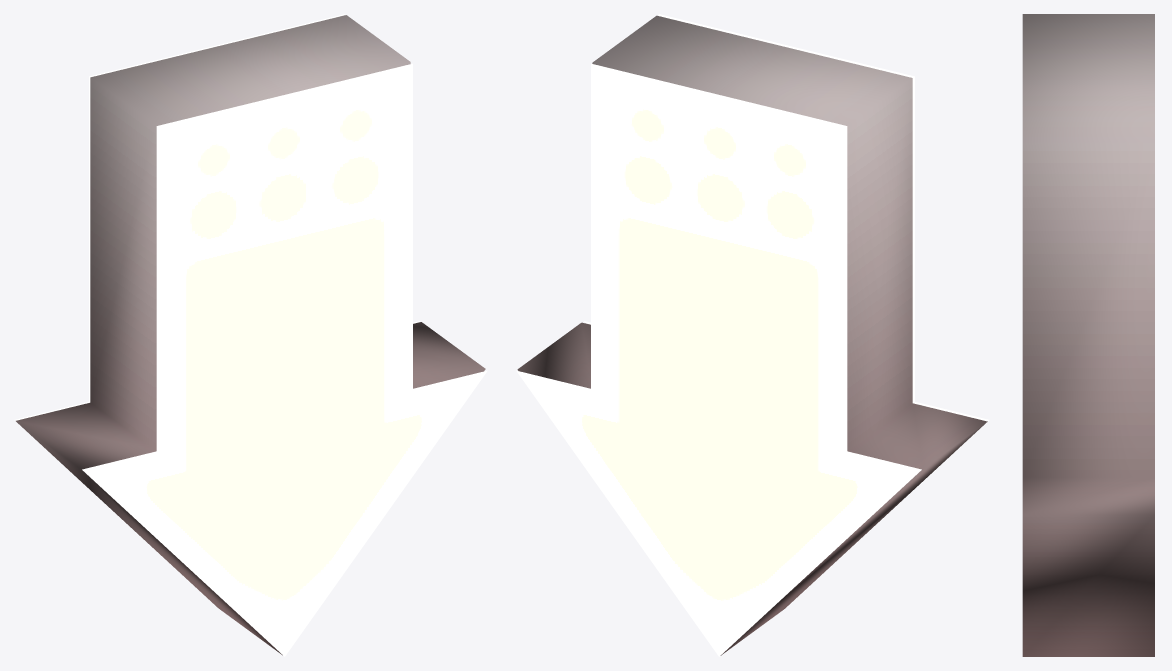
The model's file is sfx_pointarrow.glb.
The picture shows the model from 3 angles, left to right: view 1: azimuth 30°, elevation 25°; view 2: azimuth 150°, elevation 25°; view 3: azimuth 270°, elevation 25°; orthographic projection. The views are drawn at different scales.
Parts seen in each view (by area): view 1: sfx_pointarrow, sfx_pointarrow_obj0; view 2: sfx_pointarrow, sfx_pointarrow_obj0; view 3: sfx_pointarrow_obj0.
Boxes of the visible parts, <box> form: sfx_pointarrow: <box>14,14,487,656</box>; sfx_pointarrow_obj0: <box>16,15,485,655</box>; sfx_pointarrow: <box>516,14,989,656</box>; sfx_pointarrow_obj0: <box>517,15,987,655</box>; sfx_pointarrow_obj0: <box>1022,14,1154,656</box>.
Bounding box in the file's own units: 0.5703 × 0.7543 × 0.1648.
2 materials, 2 textured.
